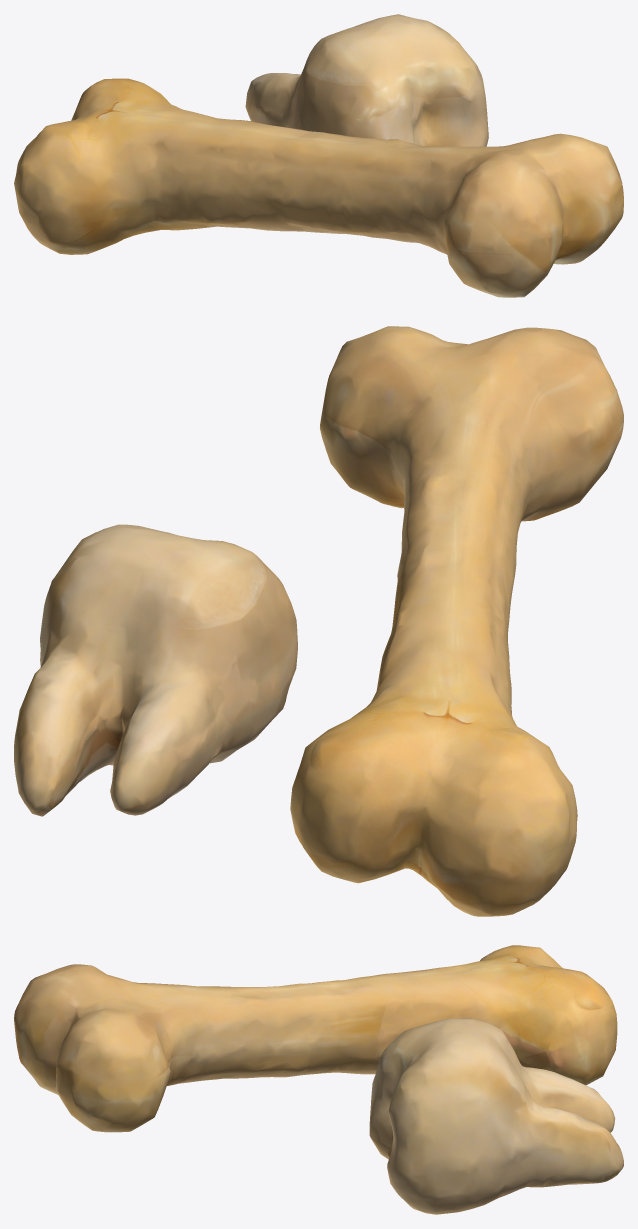
The model's file is calcio.fbx.
3 renders of one model, top to bottom at view 1: azimuth 30°, elevation 25°; view 2: azimuth 150°, elevation 25°; view 3: azimuth 270°, elevation 25°, orthographic. The views are drawn at different scales.
Visible parts, largest first — view 1: Mesh_0.002; view 2: Mesh_0.002; view 3: Mesh_0.002.
Boxes of the visible parts, bbox=[...] form: Mesh_0.002: bbox=[14, 14, 623, 297]; Mesh_0.002: bbox=[14, 326, 623, 916]; Mesh_0.002: bbox=[14, 945, 623, 1214].
Bounding box in the file's own units: 0.3741 × 0.1787 × 0.4924.
Materials: 1 (1 with a texture image).
